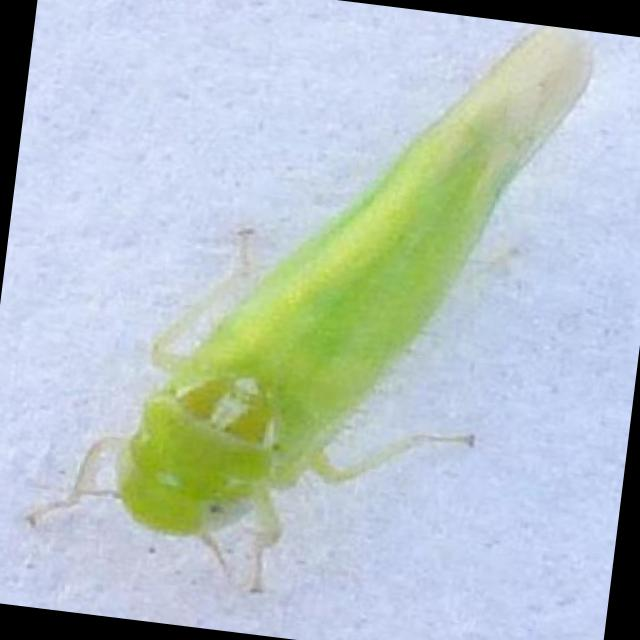green-leafhopper: (16, 28, 592, 594)
